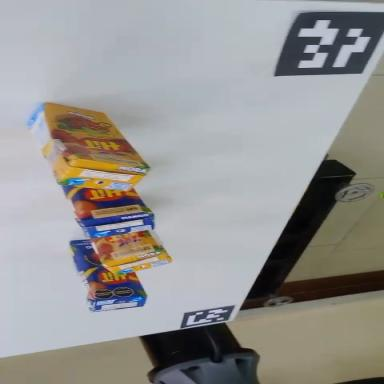HIT-MANGO: (70, 233, 148, 314), (59, 186, 155, 240)
HIT-MORA: (19, 101, 156, 198), (89, 222, 173, 280)
cara_F: (36, 102, 156, 172), (65, 222, 147, 317), (61, 185, 152, 224), (92, 223, 162, 265)
